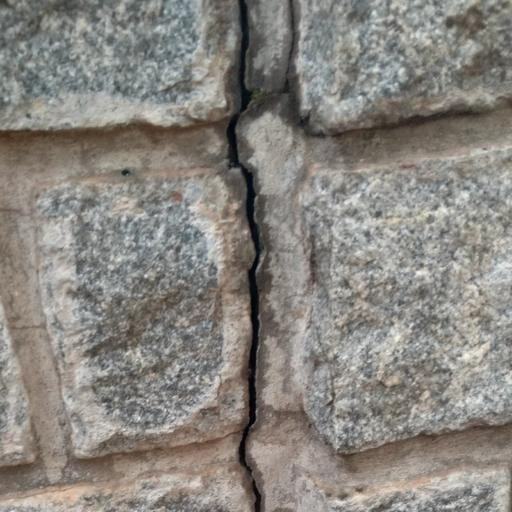major_crack: (205, 0, 308, 512)
